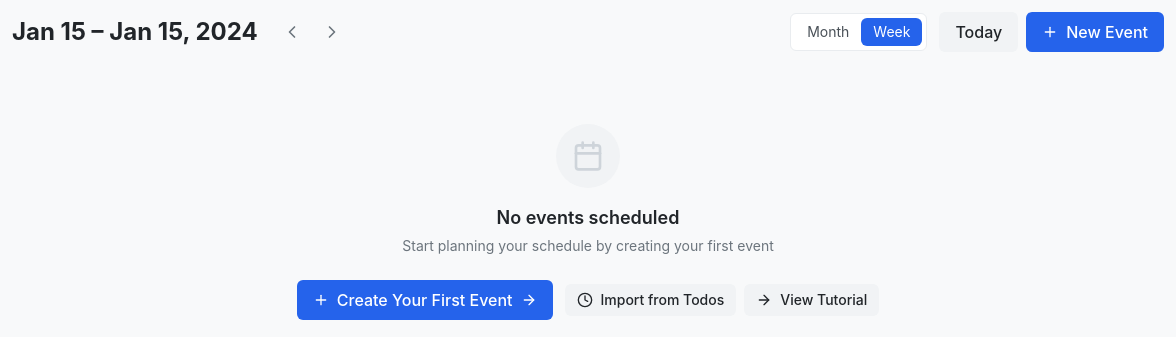
Scenario: CalendarView › updates title when switching between views
Check: the heading "Jan 15 – Jan 15, 2024" is shown, box 12,16 -> 258,48
# Switch to month view
Click the button "Month" at (828, 32), box 795,18 -> 861,46
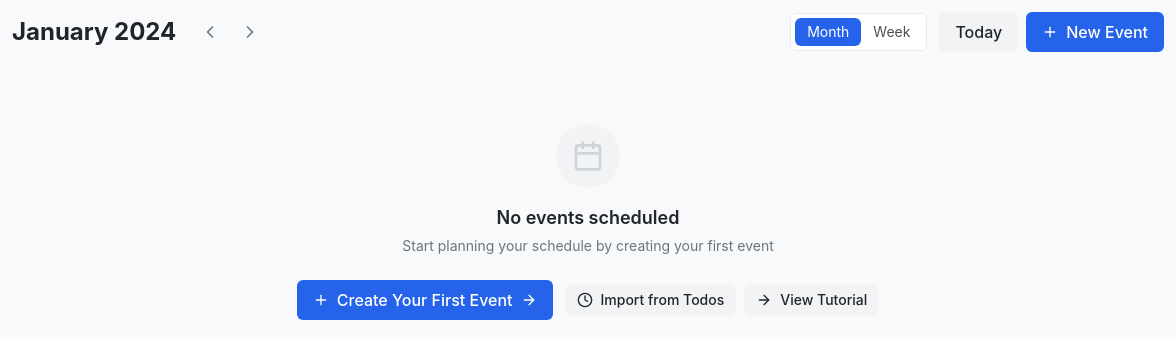
Check: the heading "January 2024" is shown, box 12,16 -> 176,48
